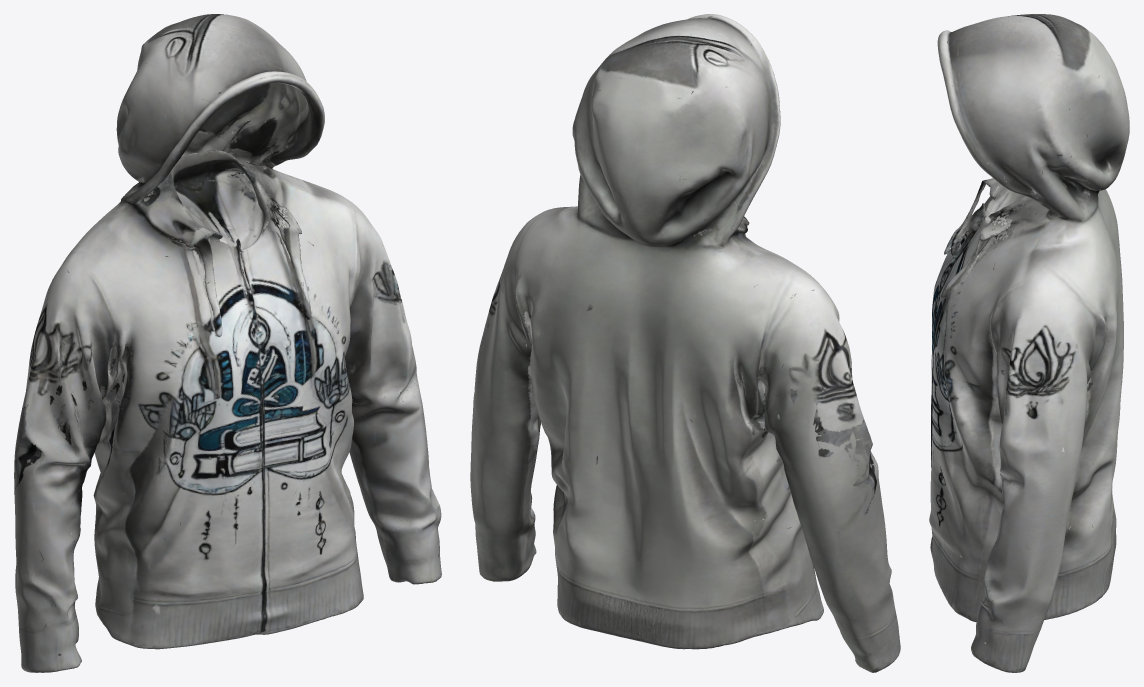
File: hoodie-mindfull.glb
3 renders of one model, left to right at view 1: azimuth 30°, elevation 25°; view 2: azimuth 150°, elevation 25°; view 3: azimuth 270°, elevation 25°, orthographic. The views are drawn at different scales.
Visible parts, largest first — view 1: Mesh_0.002; view 2: Mesh_0.002; view 3: Mesh_0.002.
Boxes of the visible parts, x1,y1,x2,y2 form: Mesh_0.002: [14, 14, 441, 672]; Mesh_0.002: [470, 14, 900, 672]; Mesh_0.002: [929, 14, 1129, 672].
Size of the model in its own units: 1.45 by 2 by 0.6469.
Materials: 1 (1 with a texture image).
